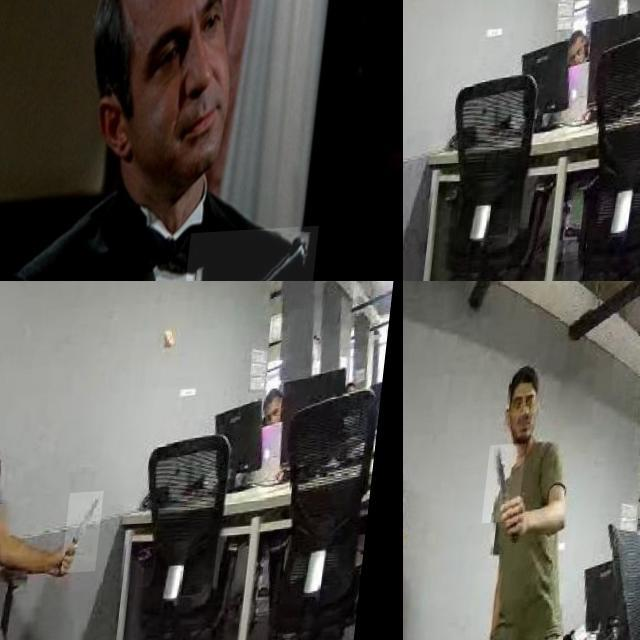-: (489, 448, 532, 528), (74, 496, 115, 578), (403, 241, 430, 281)
gun-knife-thesis - v11 Yolov5 augmented: (181, 231, 328, 281)
